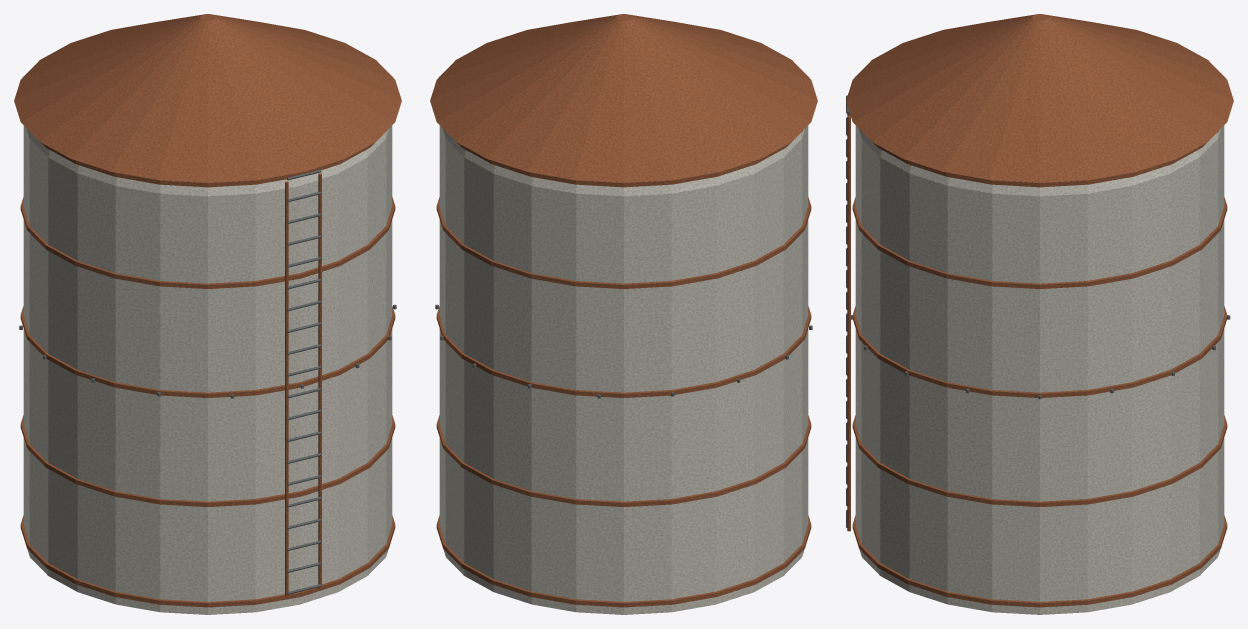
File: WATRTNK2_lod0.glb
The picture shows the model from 3 angles, left to right: view 1: azimuth 30°, elevation 25°; view 2: azimuth 150°, elevation 25°; view 3: azimuth 270°, elevation 25°; orthographic projection.
Parts seen in each view (by area): view 1: WATRTNK2_LOD0; view 2: WATRTNK2_LOD0; view 3: WATRTNK2_LOD0.
Part boxes in pixels (left/top/right/bottom): WATRTNK2_LOD0: left=14, top=14, right=401, bottom=614; WATRTNK2_LOD0: left=430, top=14, right=817, bottom=614; WATRTNK2_LOD0: left=846, top=14, right=1233, bottom=614.
Size of the model in its own units: 4.84 by 7.15 by 4.84.
3 materials, 3 textured.
